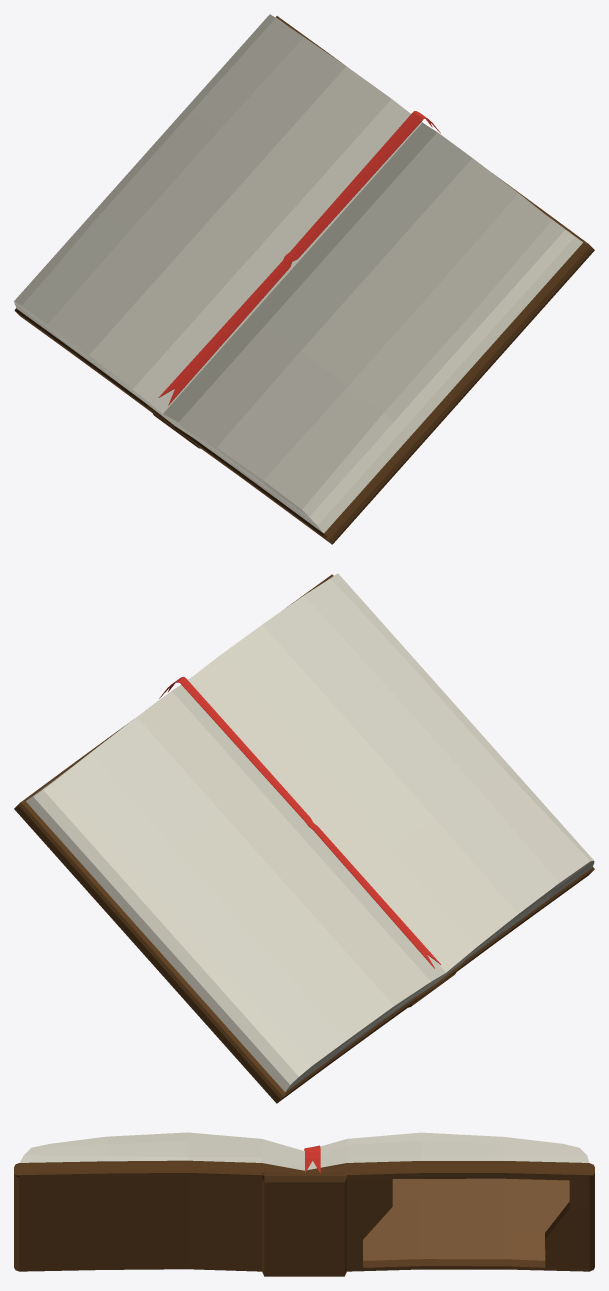
The model's file is SavePointBook.fbx.
3 views of the same model, one above another, from view 1: azimuth 30°, elevation 25°; view 2: azimuth 150°, elevation 25°; view 3: azimuth 270°, elevation 25° (orthographic). The views are drawn at different scales.
Visible parts, largest first — view 1: Cube; view 2: Cube; view 3: Cube.
Part boxes in pixels (x1,y1,x2,y2): Cube: (14, 14, 594, 544); Cube: (14, 573, 594, 1103); Cube: (14, 1132, 594, 1276).
Size of the model in its own units: 118 by 103 by 220.
